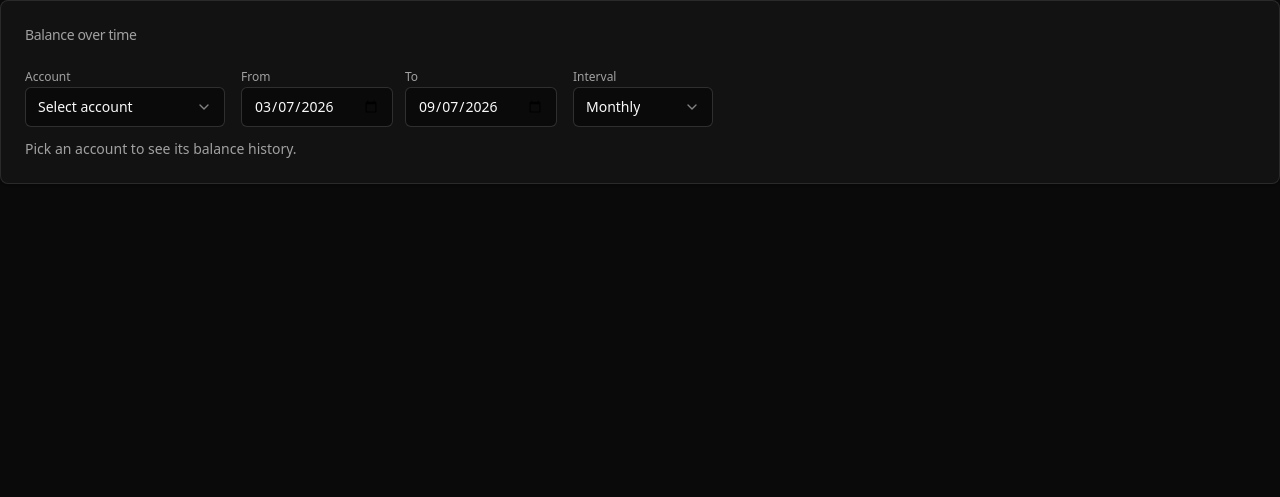
Test: BalanceOverTimeSection states › shows the missing-FX note for a USD account
The width and height of the screenshot is (1280, 497).
Click the dropdown with test id "balance-account" at (125, 107), box [25,87,225,127]
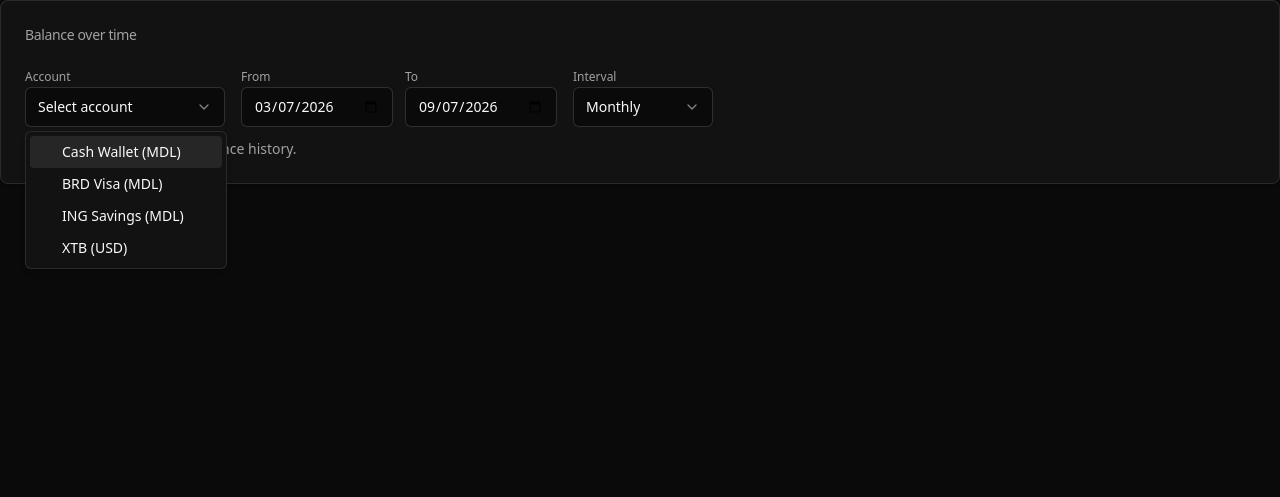
Click the option "XTB (USD)" at (95, 248), box [62,238,127,257]
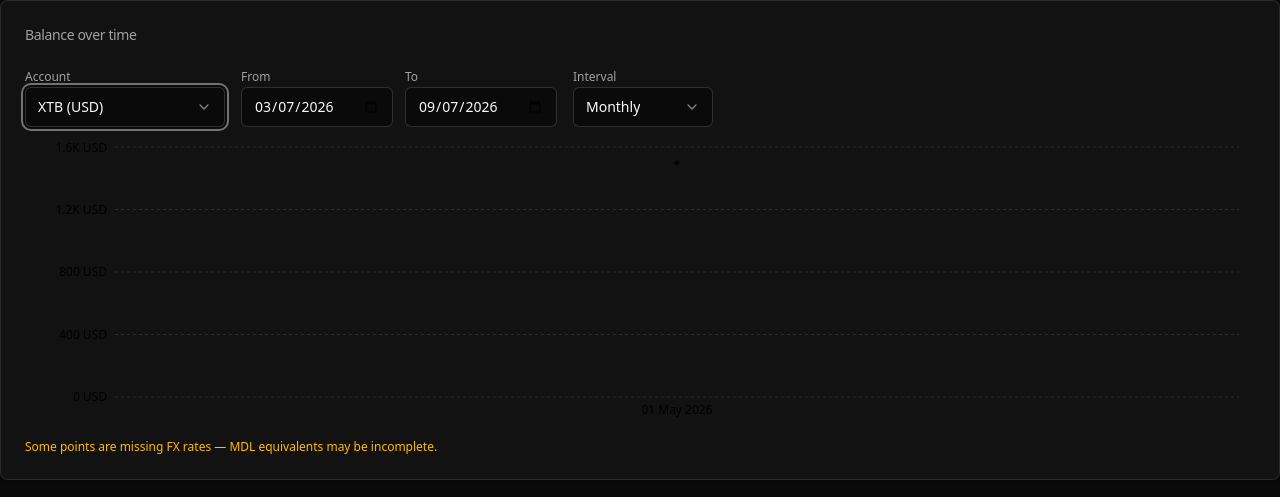
Check: the text with test id "balance-over-time-missing-fx" is shown, box [25,438,437,455]
